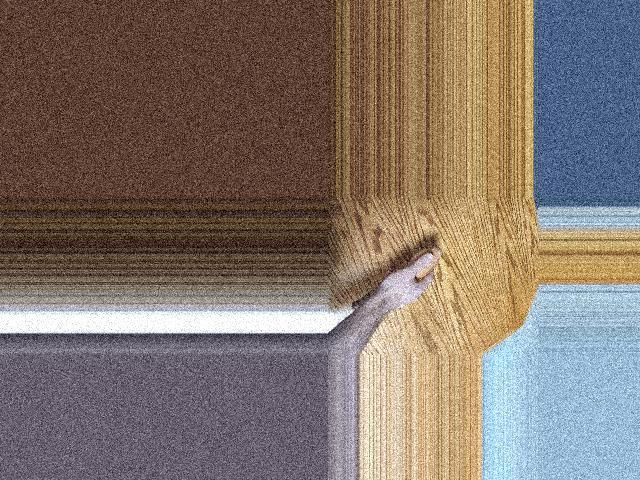sweet_potato: (348, 246, 441, 311)
